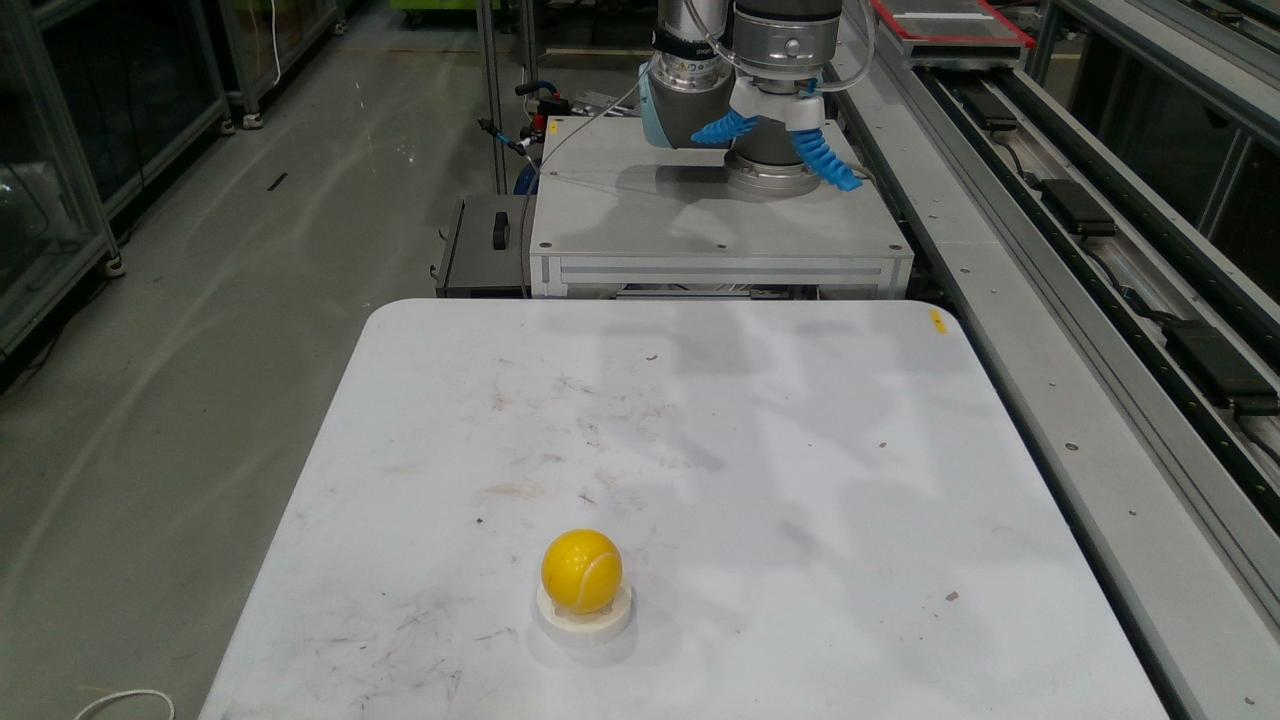UR5: (641, 0, 844, 196)
gripper_left: (691, 109, 757, 144)
gripper_right: (796, 129, 848, 188)
target: (544, 530, 618, 611), (537, 584, 631, 645)
